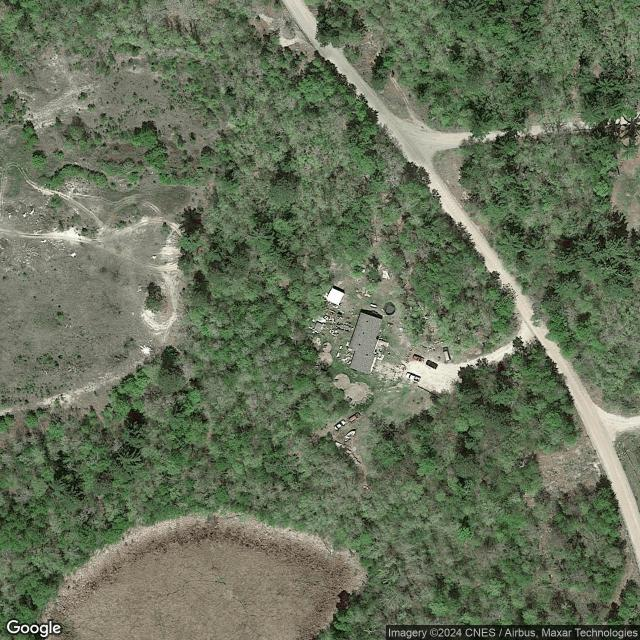Propane: (368, 303, 378, 309)
